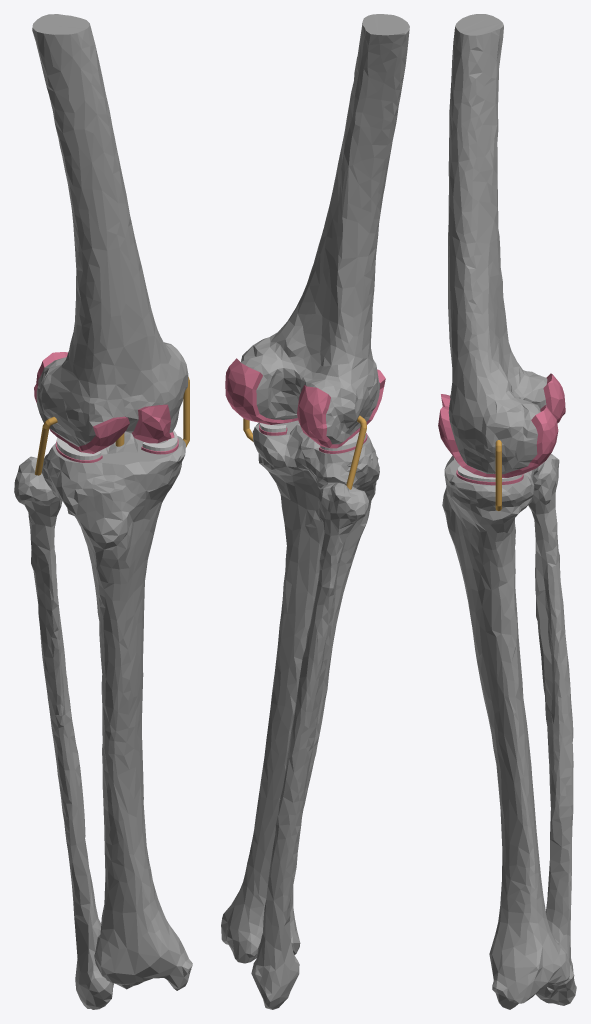
Rendered from knee joint 10.obj.
The picture shows the model from 3 angles, left to right: view 1: azimuth 30°, elevation 25°; view 2: azimuth 150°, elevation 25°; view 3: azimuth 270°, elevation 25°; orthographic projection. The views are drawn at different scales.
Parts seen in each view (by area): view 1: Tibia_and_fibula_Tibia_Right, Femur_Femur_Right, femoral_cartilage_Femur_Right.002, LIGAMENTS_Cylinder.002, meniscus_Circle.003; view 2: Tibia_and_fibula_Tibia_Right, Femur_Femur_Right, femoral_cartilage_Femur_Right.002, LIGAMENTS_Cylinder.002, meniscus_Circle.003; view 3: Tibia_and_fibula_Tibia_Right, Femur_Femur_Right, femoral_cartilage_Femur_Right.002, LIGAMENTS_Cylinder.002, meniscus_Circle.003.
Boxes of the visible parts, x1,y1,x2,y2 form: Tibia_and_fibula_Tibia_Right: (14, 431, 192, 1009); Femur_Femur_Right: (32, 14, 188, 446); femoral_cartilage_Femur_Right.002: (34, 352, 174, 453); LIGAMENTS_Cylinder.002: (35, 377, 189, 475); meniscus_Circle.003: (56, 430, 177, 460); Tibia_and_fibula_Tibia_Right: (221, 420, 379, 1009); Femur_Femur_Right: (240, 14, 409, 444); femoral_cartilage_Femur_Right.002: (225, 358, 385, 448); LIGAMENTS_Cylinder.002: (243, 415, 366, 489); meniscus_Circle.003: (259, 423, 366, 450); Tibia_and_fibula_Tibia_Right: (442, 453, 576, 1009); Femur_Femur_Right: (448, 14, 547, 474); femoral_cartilage_Femur_Right.002: (438, 373, 565, 477); LIGAMENTS_Cylinder.002: (495, 440, 501, 511); meniscus_Circle.003: (457, 465, 522, 481).
Bounding box in the file's own units: 110 × 620 × 82.3.
